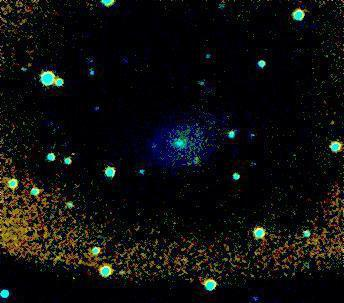star: (105, 51, 135, 81)
